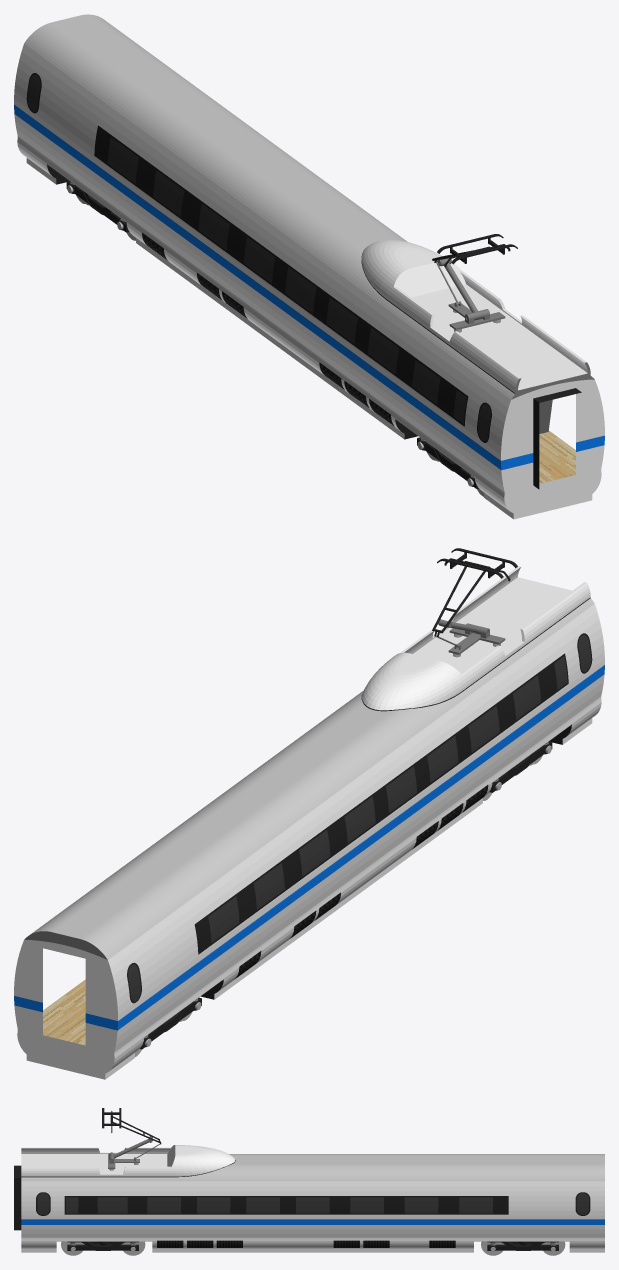
File: VELARO-simple-car5.glb
3 views of the same model, one above another, from view 1: azimuth 30°, elevation 25°; view 2: azimuth 150°, elevation 25°; view 3: azimuth 270°, elevation 25° (orthographic). The views are drawn at different scales.
Parts seen in each view (by area): view 1: 6um4mu; view 2: 6um4mu; view 3: 6um4mu.
Part boxes in pixels (x1,y1,x2,y2): 6um4mu: (14, 14, 604, 519); 6um4mu: (14, 548, 604, 1079); 6um4mu: (14, 1108, 604, 1252).
Size of the model in its own units: 2.94 by 5.99 by 24.16.
11 materials, 2 textured.
